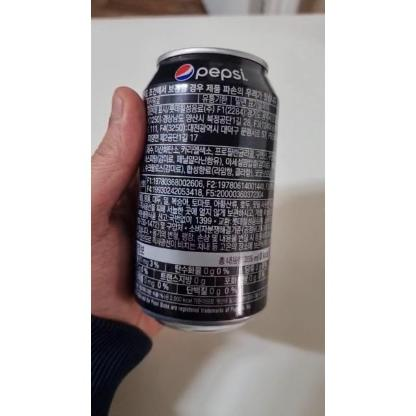Can: (134, 48, 280, 332)
